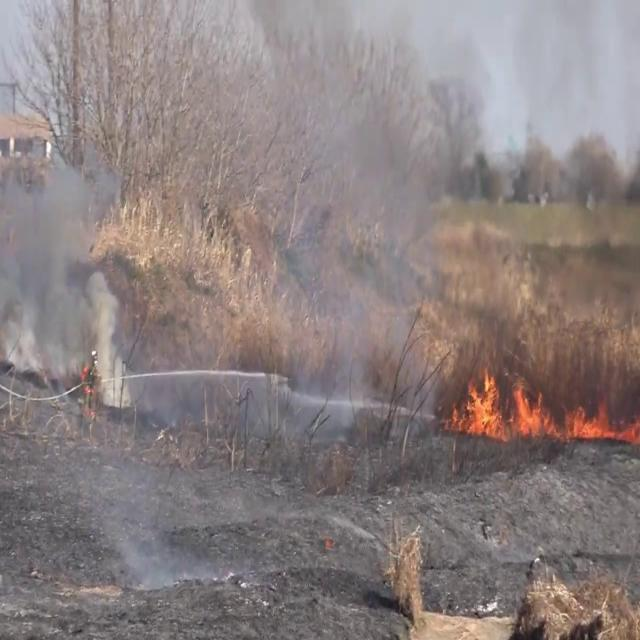Fire: (450, 366, 638, 448)
Smoke: (277, 61, 447, 380), (1, 55, 128, 390)
